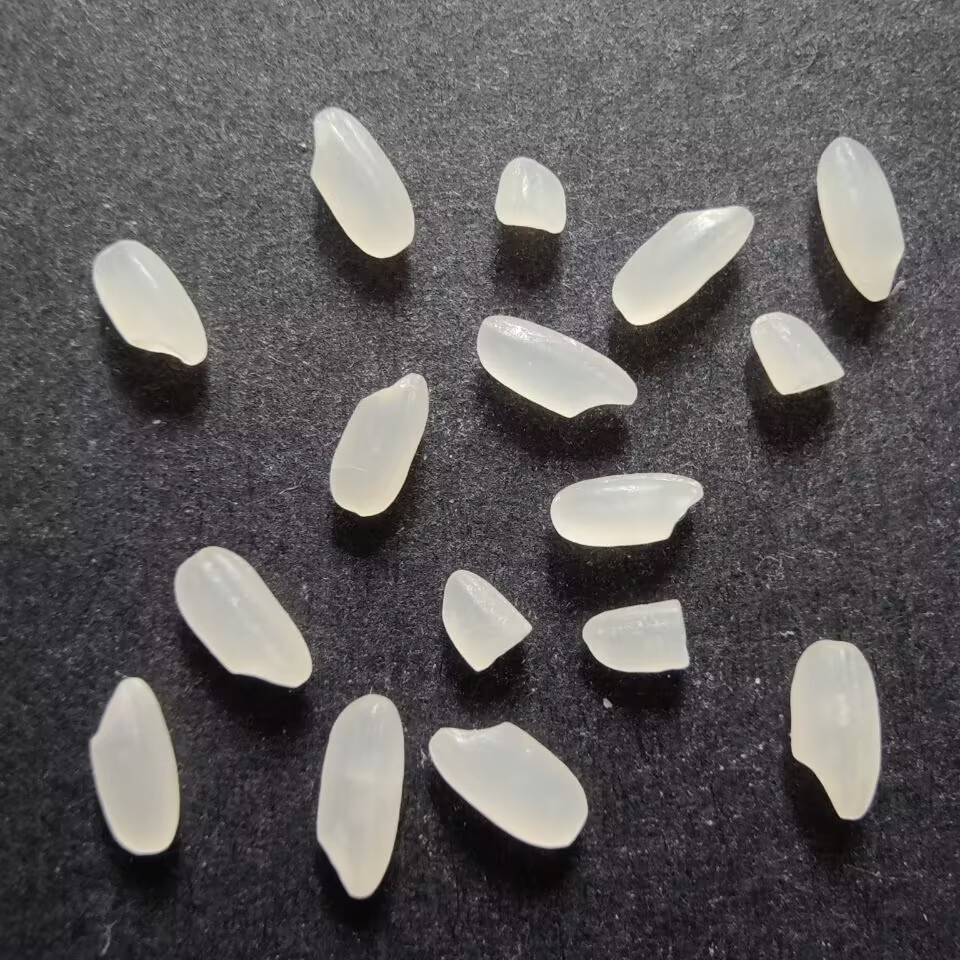broken: (438, 565, 536, 677), (575, 597, 694, 678), (748, 307, 850, 399), (489, 150, 572, 240)
rice: (429, 720, 590, 855), (171, 544, 316, 692), (314, 692, 408, 905), (607, 202, 756, 329), (84, 671, 185, 858), (787, 637, 888, 823), (473, 311, 639, 420), (306, 107, 420, 261), (815, 131, 908, 307), (90, 236, 207, 370), (327, 368, 427, 518), (545, 470, 707, 546)
